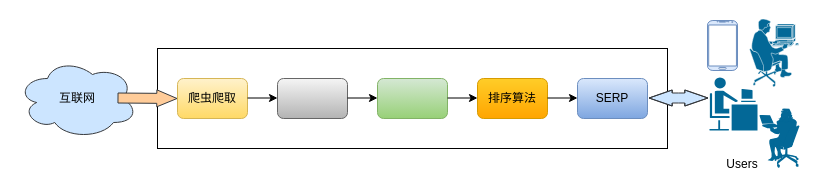
Image size: 818x191. Some labels were removed from this diagram. Here are the shapes that lost their labels. From the top down, the box of each, then its label:
(276, 78, 348, 118): 解析
(376, 78, 448, 118): 收录
